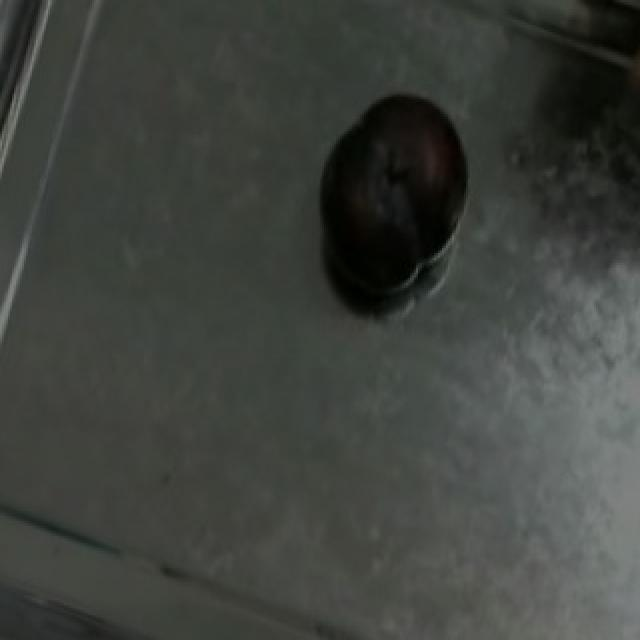Fruit: (306, 77, 486, 278)
